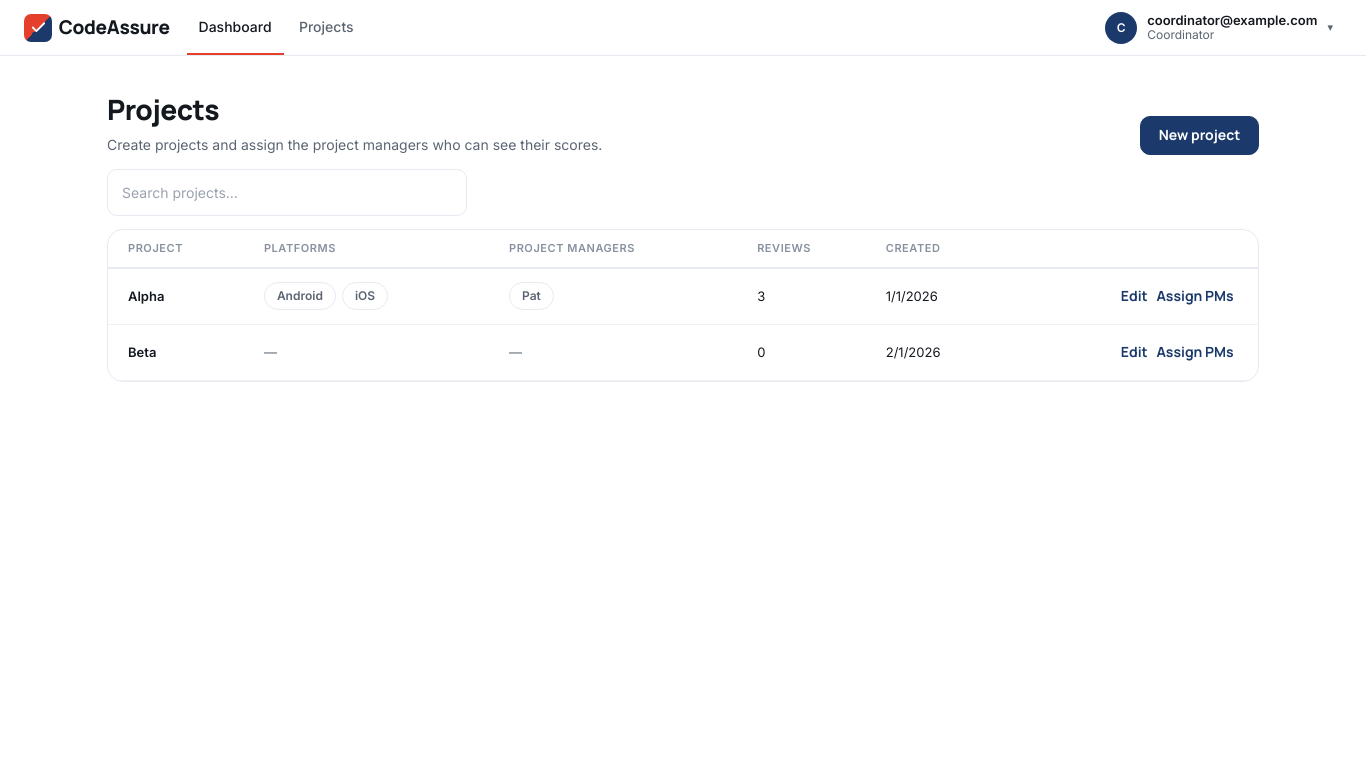
Test case: if saving platforms fails after creating, the project still appears and the user is told
The width and height of the screenshot is (1366, 768).
expect the text "Alpha" is shown: met, box x1=108 y1=268 x2=252 y2=324
Click the button "New project" at (1200, 135), box x1=1140 y1=116 x2=1259 y2=155
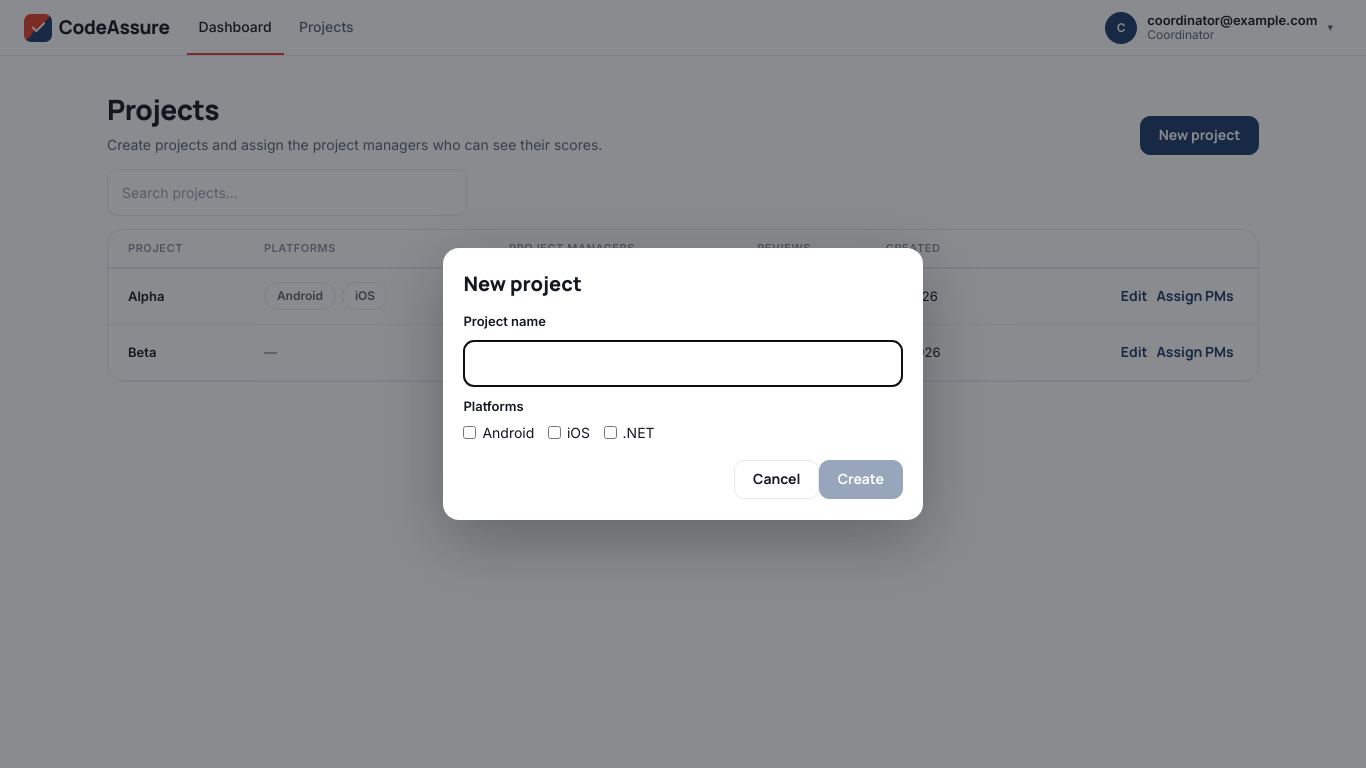
Type "Gamma" into the field labelled "Project name" at (683, 363), box x1=463 y1=340 x2=903 y2=387
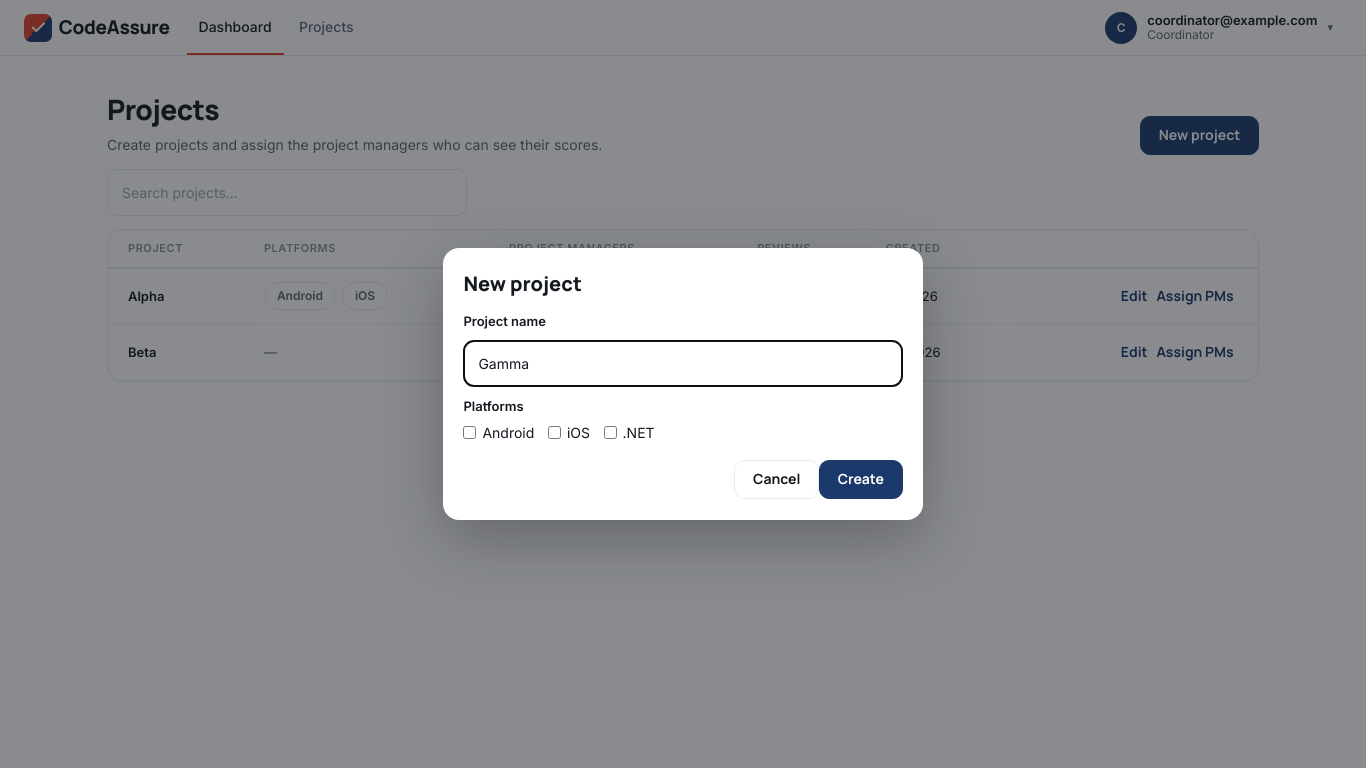
Click the checkbox labelled "Android" at (470, 433), box x1=463 y1=426 x2=476 y2=439
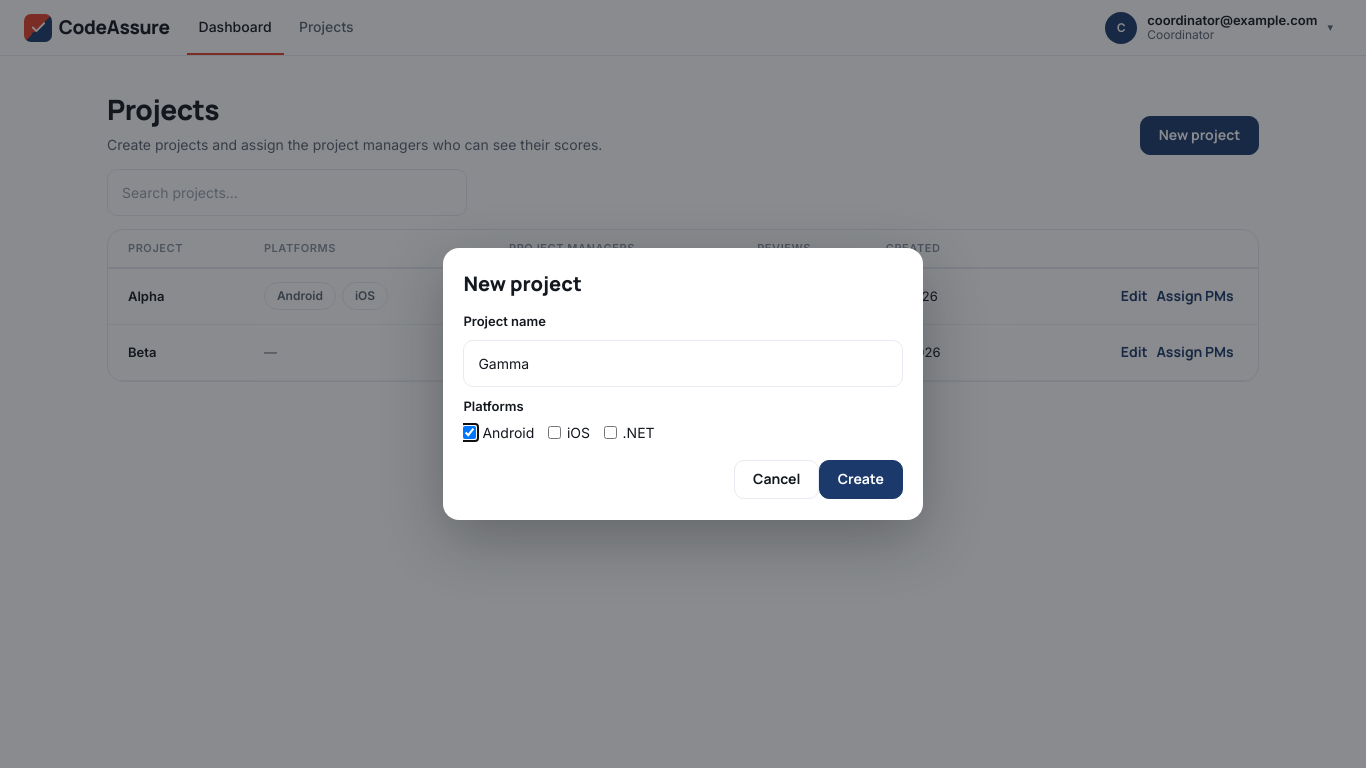
Click the button "Create" at (861, 480), box x1=819 y1=460 x2=903 y2=500
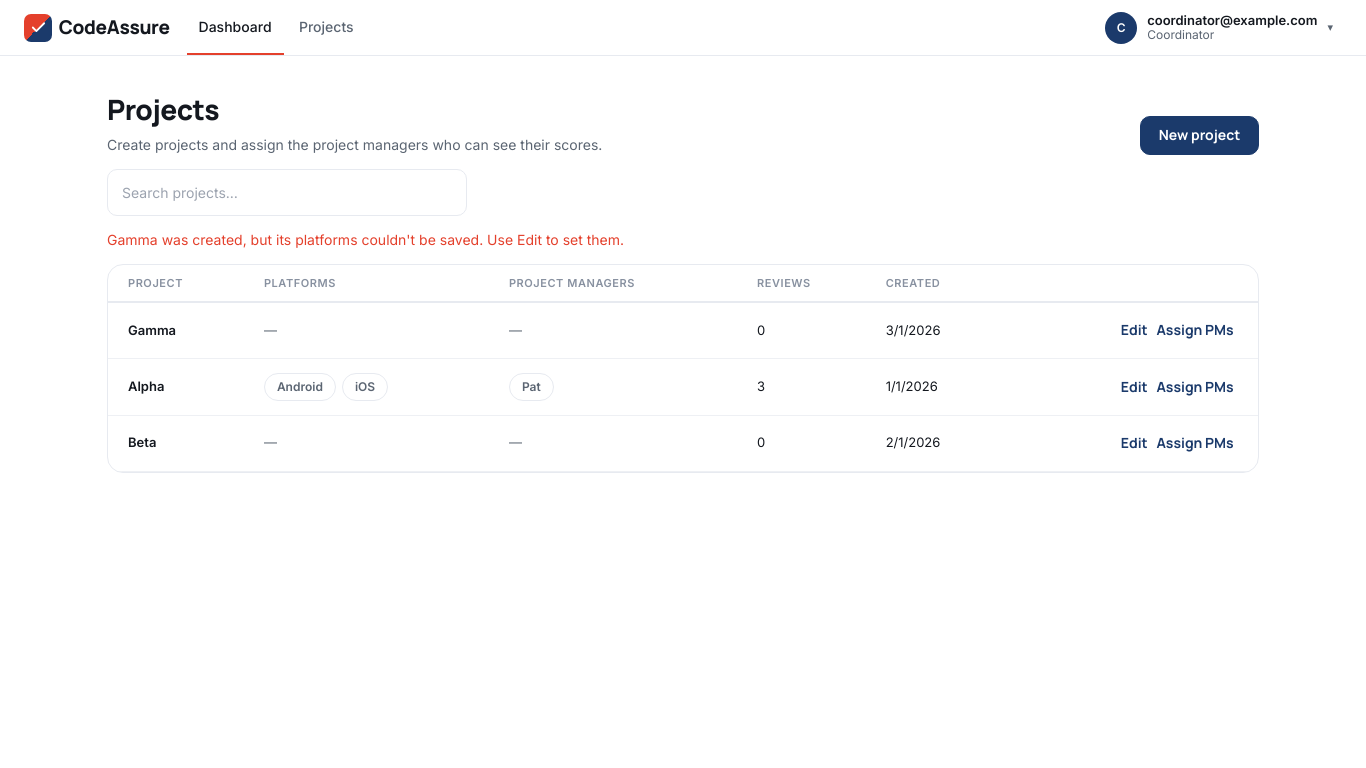
expect the text "Gamma" is shown: met, box x1=108 y1=302 x2=252 y2=359
expect the label labelled "Project name" is gone: met
expect the text "Gamma was created, but its platforms couldn't be saved. Use Edit to set them." is shown: met, box x1=107 y1=231 x2=624 y2=248
